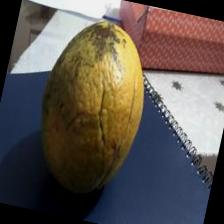Orange Rotten: (15, 2, 166, 214)
